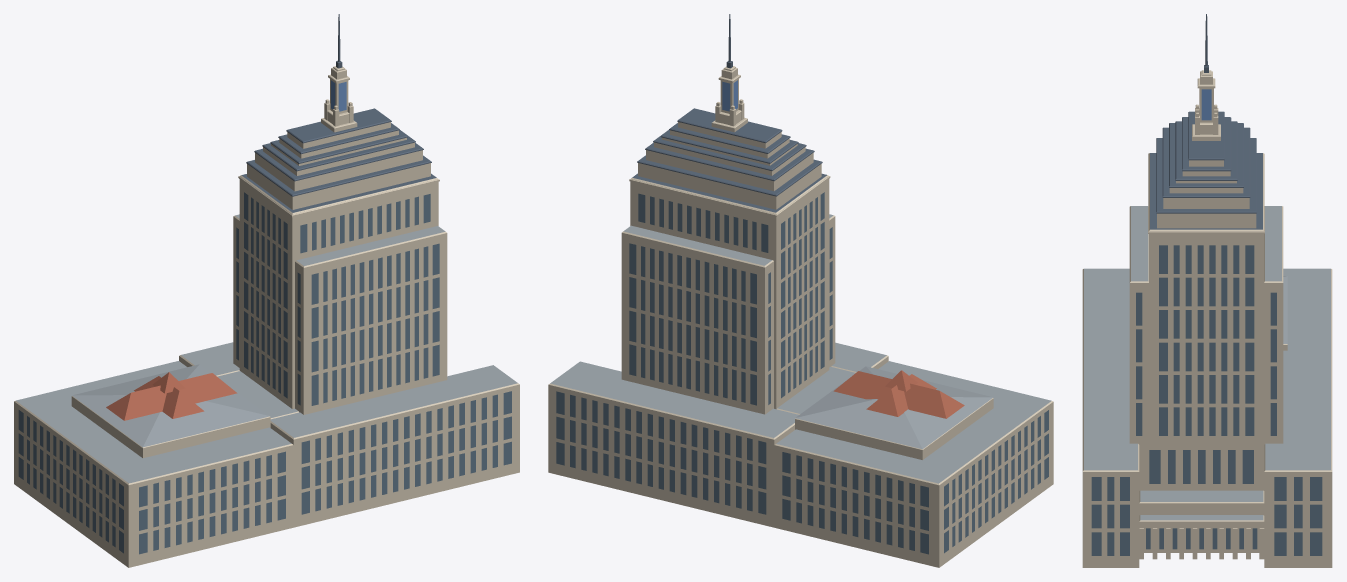
Rendered from bos-berkeley-building.glb.
3 renders of one model, left to right at view 1: azimuth 30°, elevation 25°; view 2: azimuth 150°, elevation 25°; view 3: azimuth 270°, elevation 25°, orthographic. The views are drawn at different scales.
Visible parts, largest first — view 1: Berkeley Building; view 2: Berkeley Building; view 3: Berkeley Building.
Part boxes in pixels (x1=…): Berkeley Building: x1=14, y1=14, x2=519, y2=567; Berkeley Building: x1=548, y1=14, x2=1053, y2=567; Berkeley Building: x1=1082, y1=14, x2=1332, y2=567.
Bounding box in the file's own units: 154 × 168 × 78.1.
